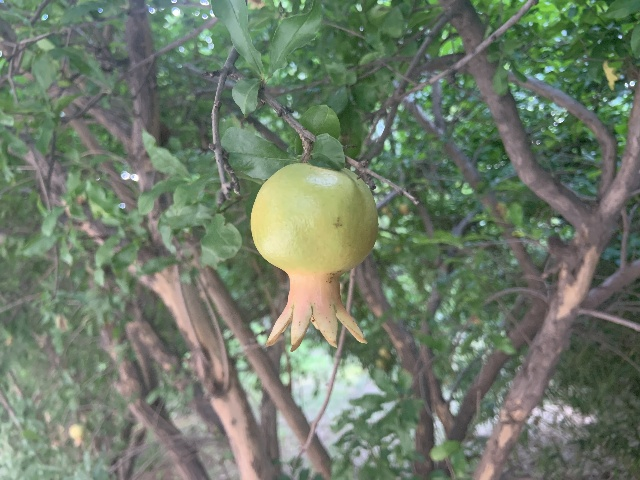mid-growth: (250, 162, 378, 352)
